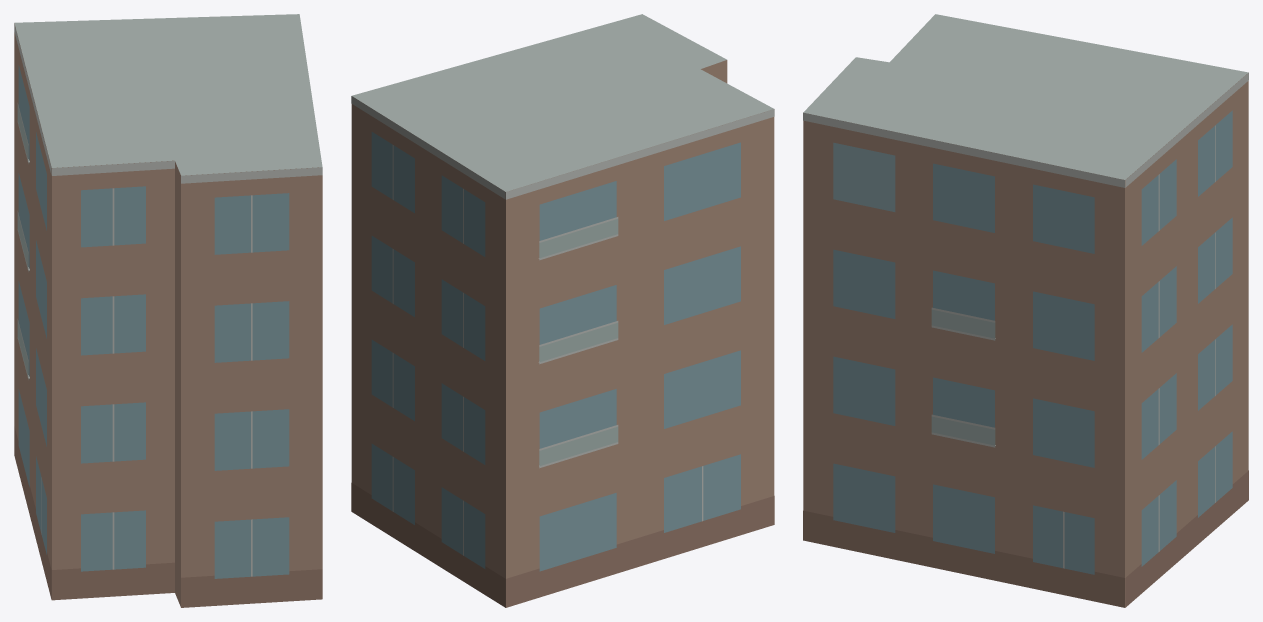
The model's file is survey-upis-32497237.glb.
3 views of the same model, side by side, from view 1: azimuth 30°, elevation 25°; view 2: azimuth 150°, elevation 25°; view 3: azimuth 270°, elevation 25° (orthographic). The views are drawn at different scales.
Visible parts, largest first — view 1: survey-upis-32497237.tmp; view 2: survey-upis-32497237.tmp; view 3: survey-upis-32497237.tmp.
Part boxes in pixels (x1,y1,x2,y2): survey-upis-32497237.tmp: [14, 14, 322, 607]; survey-upis-32497237.tmp: [351, 14, 774, 607]; survey-upis-32497237.tmp: [803, 14, 1248, 607].
Size of the model in its own units: 10.91 by 13.1 by 12.37.
